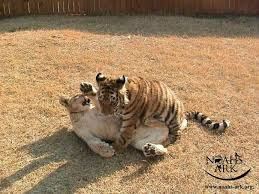lion: (55, 88, 165, 159)
tiger: (94, 67, 238, 146)
